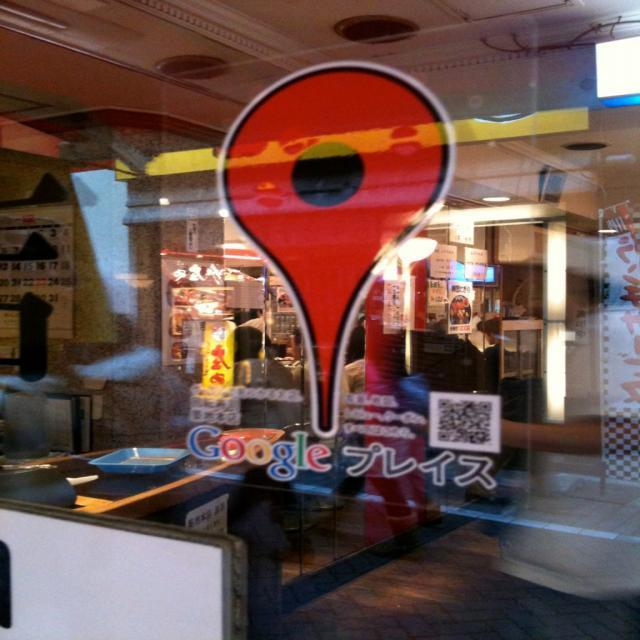qrcode: (439, 401, 493, 446)
